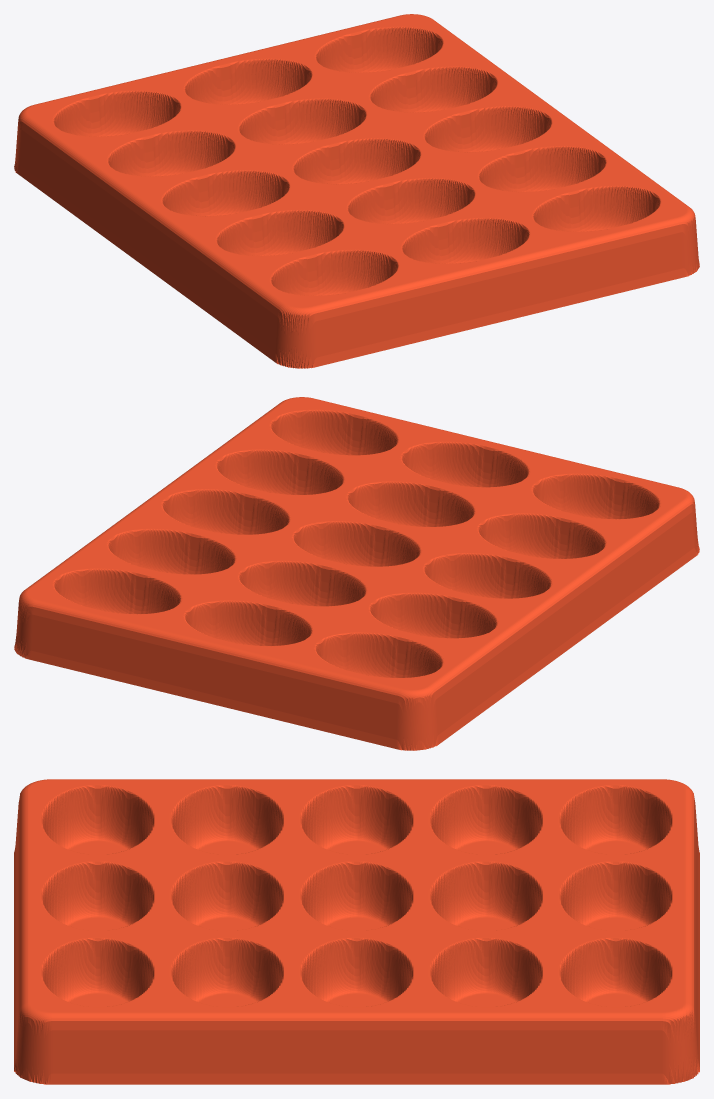
Rendered from mold.glb.
3 views of the same model, one above another, from view 1: azimuth 30°, elevation 25°; view 2: azimuth 150°, elevation 25°; view 3: azimuth 270°, elevation 25° (orthographic). The views are drawn at different scales.
Parts seen in each view (by area): view 1: geometry_0; view 2: geometry_0; view 3: geometry_0.
Part boxes in pixels (x1,y1,x2,y2): geometry_0: [14, 14, 699, 368]; geometry_0: [14, 397, 699, 750]; geometry_0: [14, 779, 699, 1084].
Size of the model in its own units: 0.1392 by 0.0175 by 0.1647.
